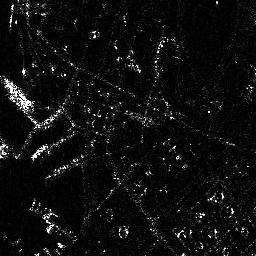ship: (2, 77, 38, 111)
